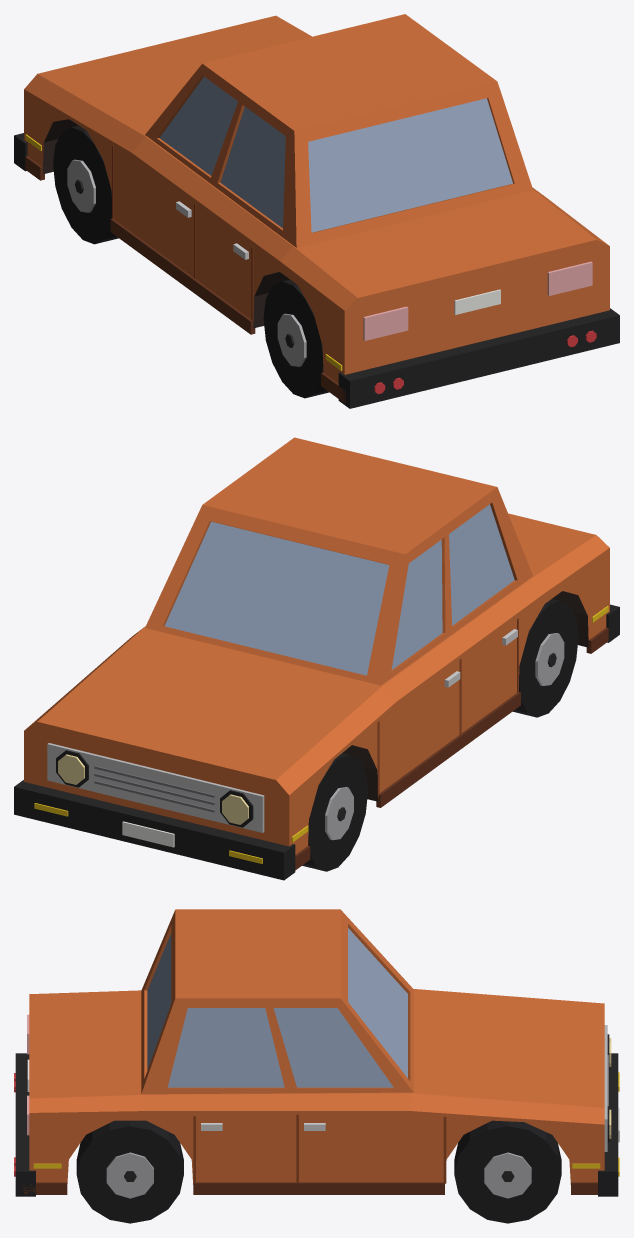
Rendered from Car_Sedan.fbx.
3 renders of one model, top to bottom at view 1: azimuth 30°, elevation 25°; view 2: azimuth 150°, elevation 25°; view 3: azimuth 270°, elevation 25°, orthographic. The views are drawn at different scales.
Visible parts, largest first — view 1: Car_Sedan; view 2: Car_Sedan; view 3: Car_Sedan.
Part boxes in pixels (x1,y1,x2,y2): Car_Sedan: [14, 14, 619, 408]; Car_Sedan: [14, 437, 619, 880]; Car_Sedan: [14, 909, 619, 1223].
Bounding box in the file's own units: 658 × 550 × 1412.
Materials: 1 (1 with a texture image).
